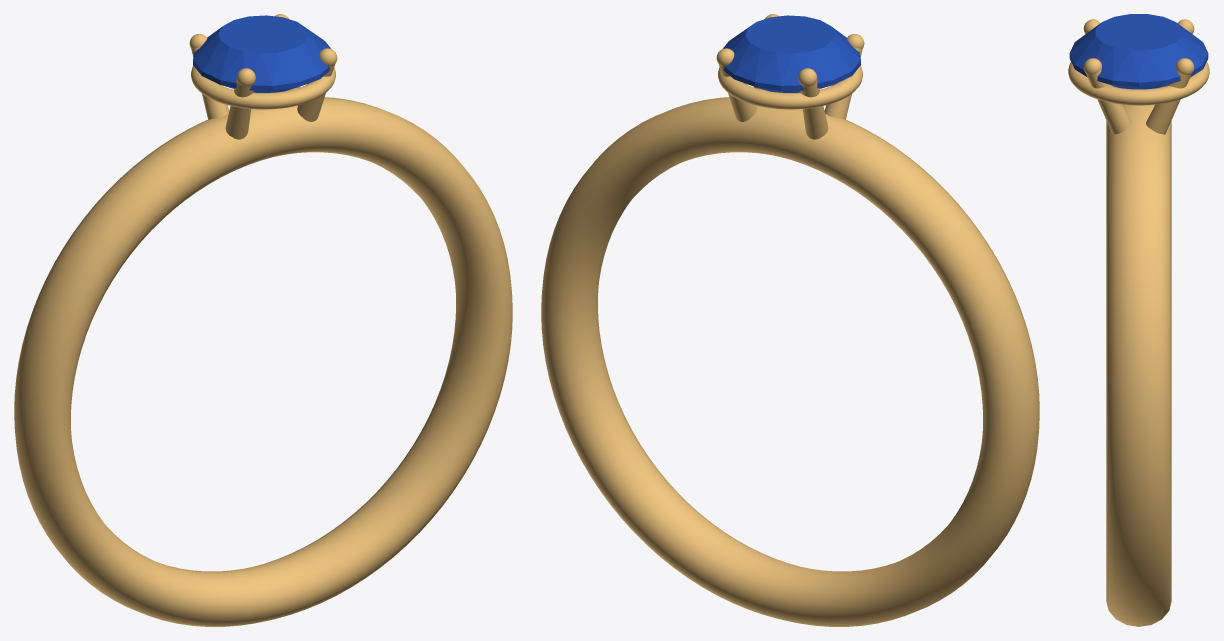
File: gold-sapphire-ring.glb
3 renders of one model, left to right at view 1: azimuth 30°, elevation 25°; view 2: azimuth 150°, elevation 25°; view 3: azimuth 270°, elevation 25°, orthographic. The views are drawn at different scales.
Parts seen in each view (by area): view 1: Gold band, Round sapphire, Gallery rail, Prong 3; view 2: Gold band, Round sapphire, Gallery rail, Prong 2; view 3: Gold band, Round sapphire, Gallery rail, Prong 1, Prong 4, Prong tip 1, Prong tip 4.
Part boxes in pixels (box(x1,y1,x2,y2)): Gold band: box(14, 97, 512, 626); Round sapphire: box(193, 15, 330, 92); Gallery rail: box(191, 65, 335, 109); Prong 3: box(225, 79, 253, 139); Gold band: box(541, 97, 1039, 626); Round sapphire: box(723, 15, 860, 92); Gallery rail: box(718, 65, 862, 109); Prong 2: box(800, 79, 828, 139); Gold band: box(1106, 104, 1171, 626); Round sapphire: box(1069, 14, 1208, 89); Gallery rail: box(1068, 62, 1209, 105); Prong 1: box(1146, 69, 1191, 134); Prong 4: box(1086, 69, 1131, 134); Prong tip 1: box(1176, 58, 1194, 74); Prong tip 4: box(1083, 58, 1101, 74).
Bounding box in the file's own units: 0.021 × 0.024 × 0.0054.
